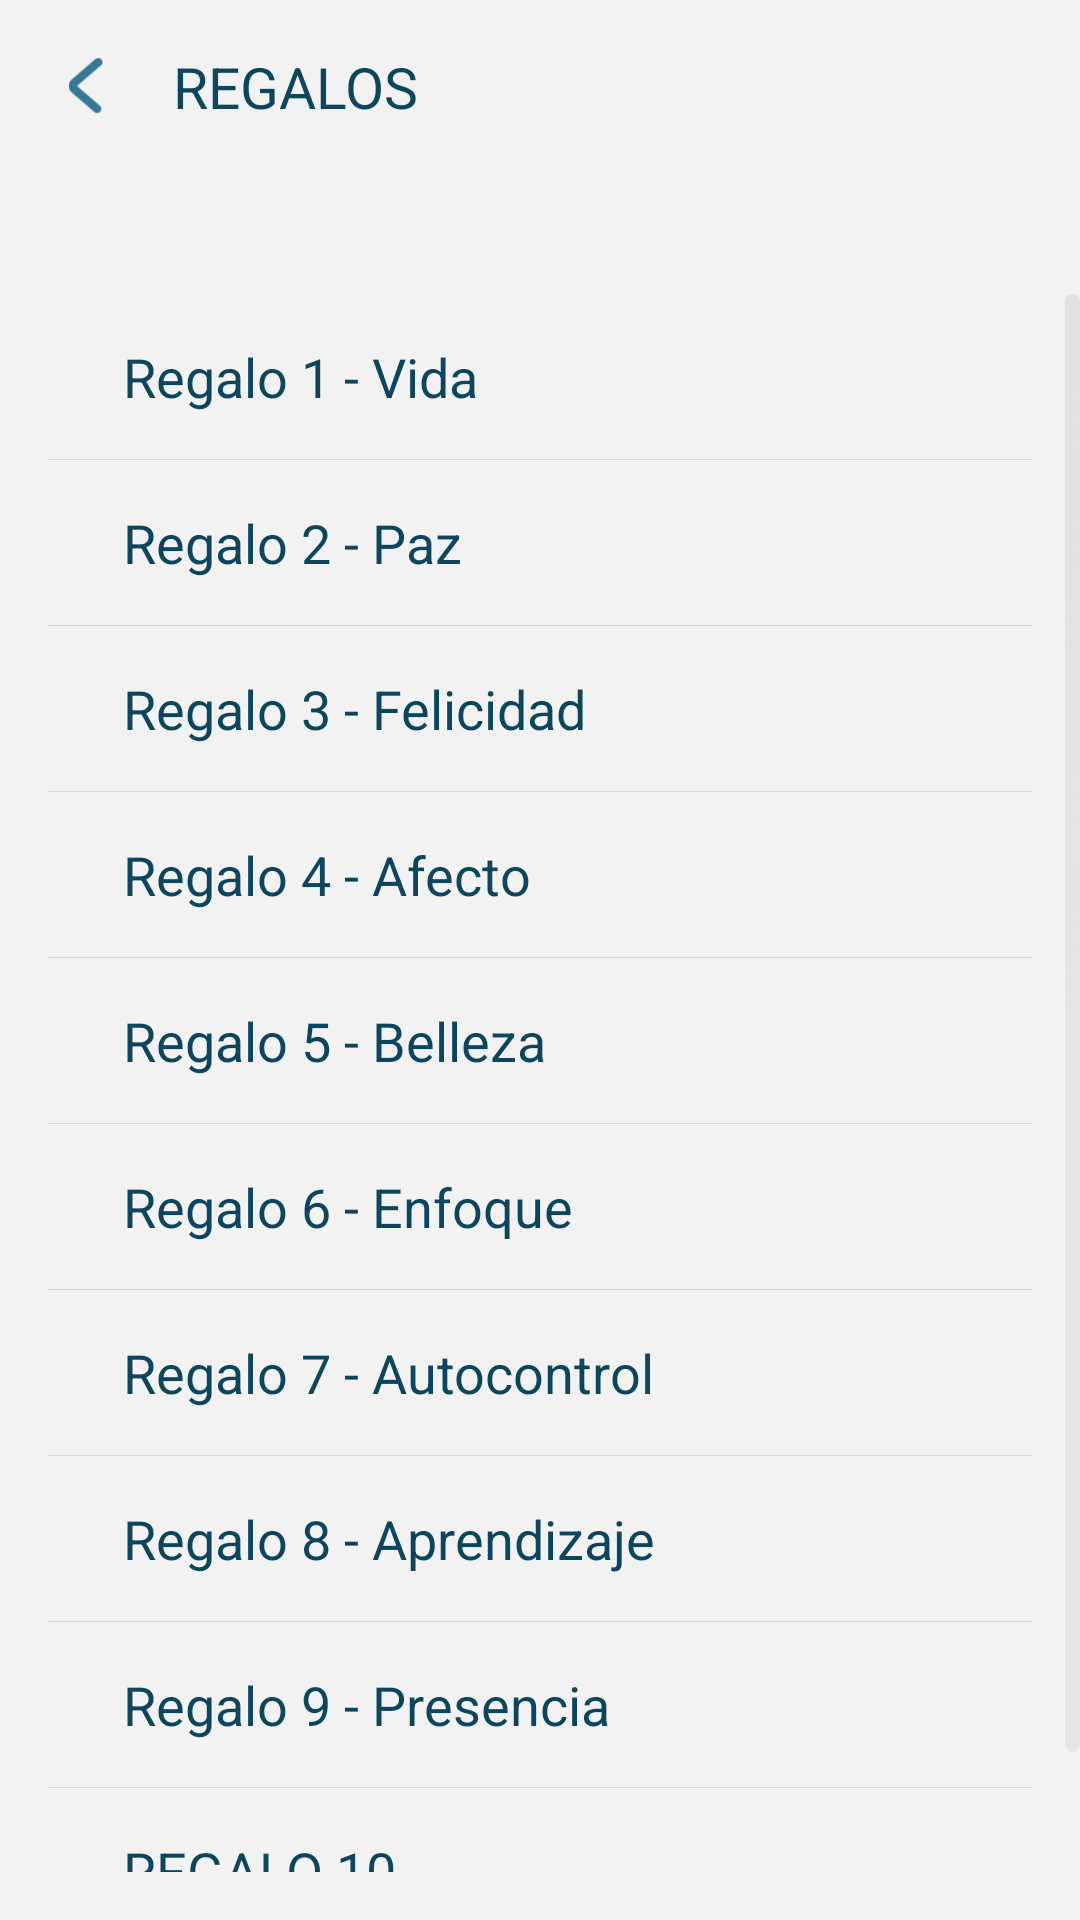

Screen size 1080 × 1920. Icon name, then its box in pixels as bbox=[x1, y1, x2, y2]:
atras: bbox=[69, 58, 103, 113]
